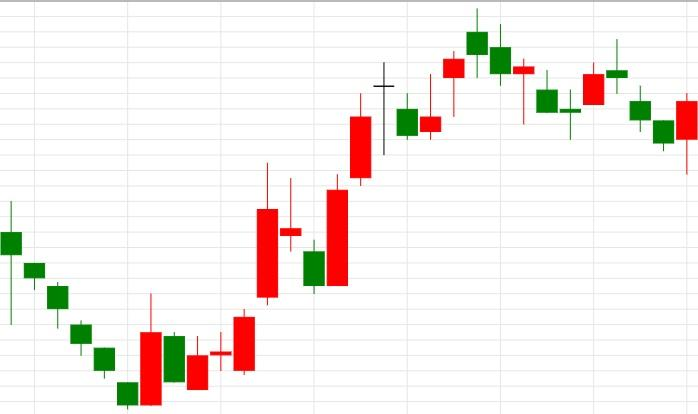evening_star_fall: (304, 63, 418, 295)
morning_star_rise: (466, 8, 605, 139)
